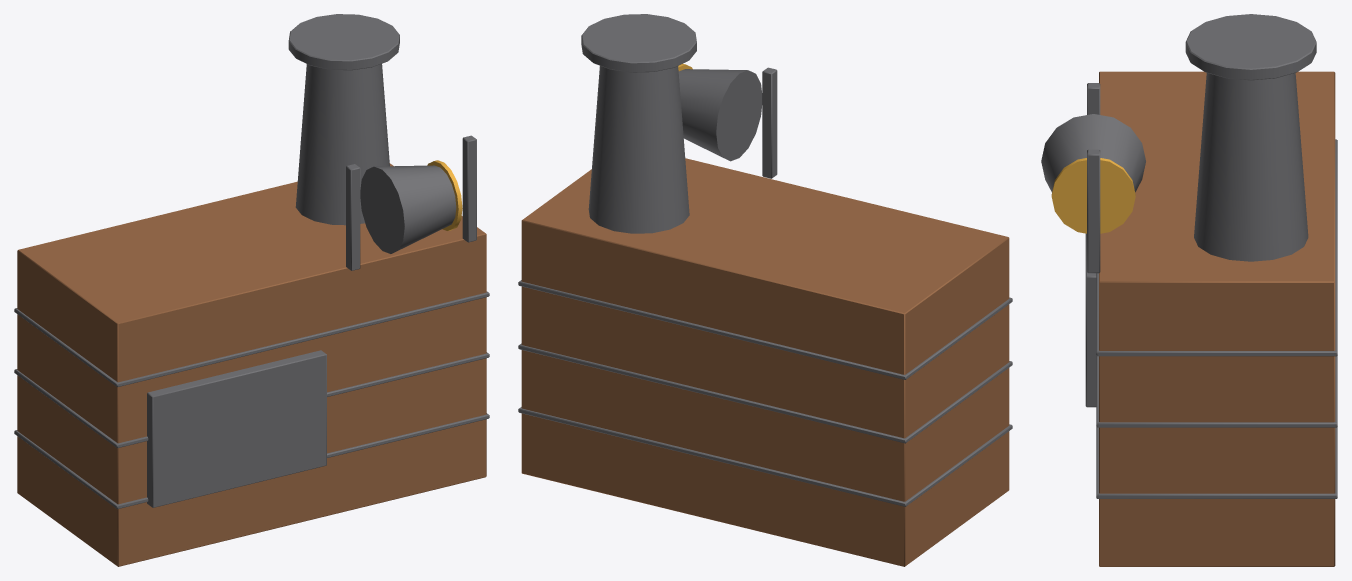
The model's file is feM_Foundry.fbx.
The picture shows the model from 3 angles, left to right: view 1: azimuth 30°, elevation 25°; view 2: azimuth 150°, elevation 25°; view 3: azimuth 270°, elevation 25°; orthographic projection. The views are drawn at different scales.
Parts seen in each view (by area): view 1: feM_Foundry_Base, FeSpin_x0.1_Crucible; view 2: feM_Foundry_Base, FeSpin_x0.1_Crucible; view 3: feM_Foundry_Base, FeSpin_x0.1_Crucible.
Part boxes in pixels (x1,y1,x2,y2): feM_Foundry_Base: (14,14,489,566); FeSpin_x0.1_Crucible: (360,160,462,253); feM_Foundry_Base: (518,14,1012,566); FeSpin_x0.1_Crucible: (678,63,762,161); feM_Foundry_Base: (1085,14,1337,566); FeSpin_x0.1_Crucible: (1041,114,1145,233).
Size of the model in its own units: 1.92 by 2.03 by 1.13.
